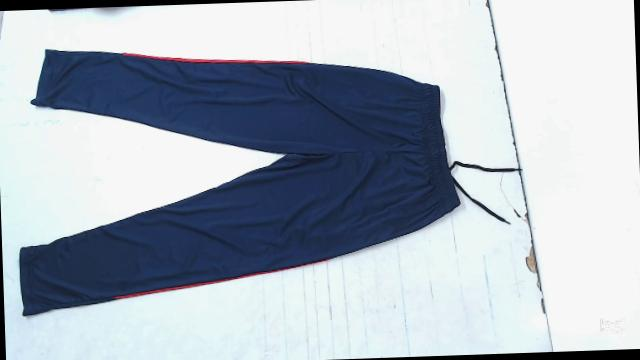new-garment: (19, 50, 460, 315)
